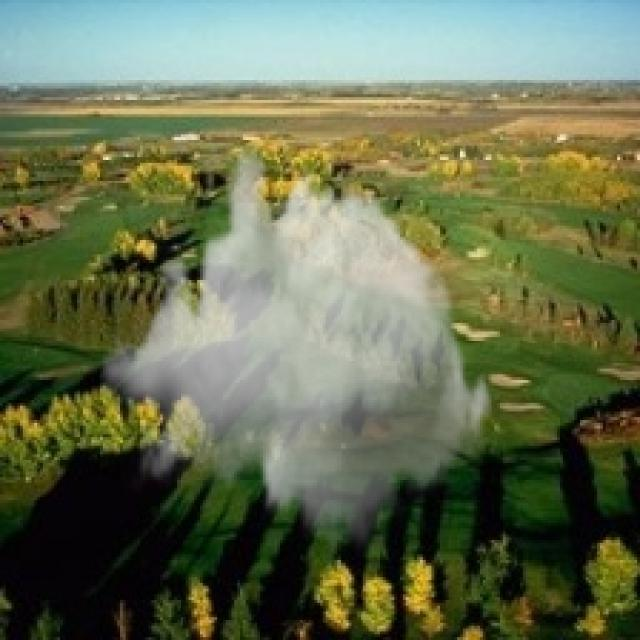Smoke: (100, 140, 497, 557)
